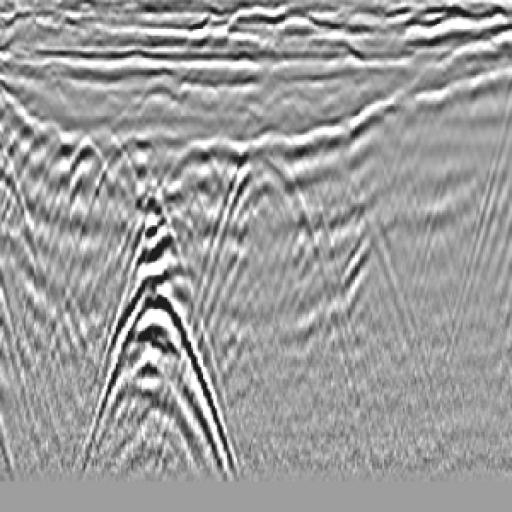metalic: (188, 133, 344, 334)
